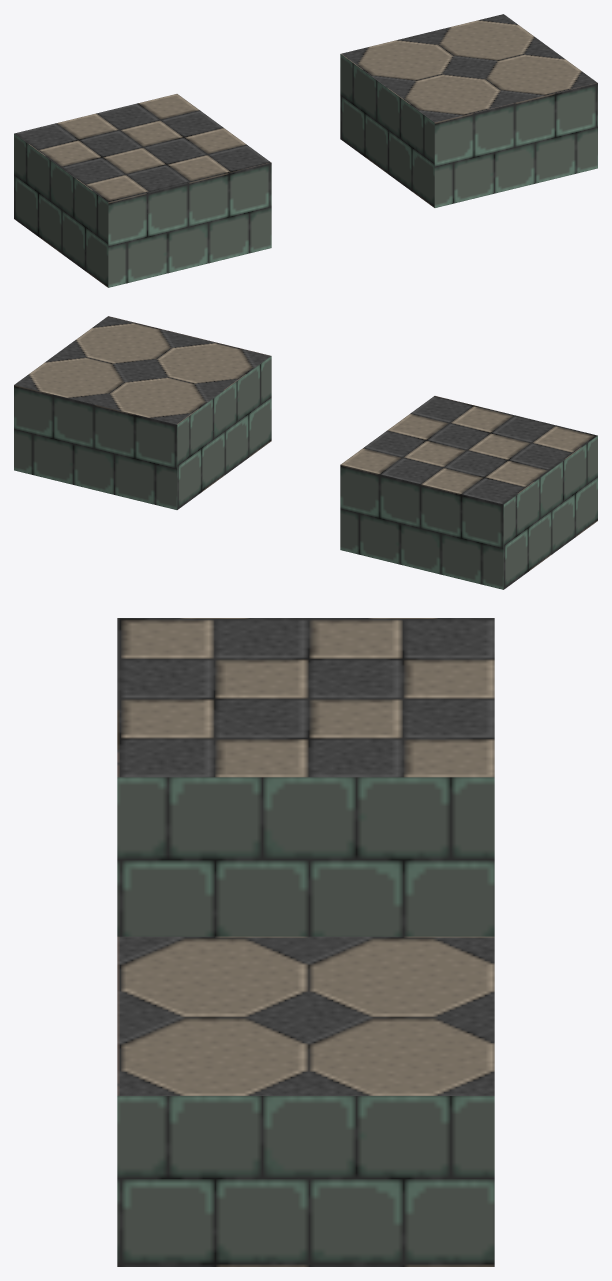
The model's file is obj_floorTile_1m_v2.fbx.
3 views of the same model, one above another, from view 1: azimuth 30°, elevation 25°; view 2: azimuth 150°, elevation 25°; view 3: azimuth 270°, elevation 25° (orthographic). The views are drawn at different scales.
Parts seen in each view (by area): view 1: obj_floorTile_1m_v1, obj_floorTile_1m_v2; view 2: obj_floorTile_1m_v1, obj_floorTile_1m_v2; view 3: obj_floorTile_1m_v1, obj_floorTile_1m_v2.
Part boxes in pixels (x1=…): obj_floorTile_1m_v1: x1=340, y1=14, x2=597, y2=207; obj_floorTile_1m_v2: x1=14, y1=94, x2=271, y2=287; obj_floorTile_1m_v1: x1=14, y1=316, x2=271, y2=509; obj_floorTile_1m_v2: x1=340, y1=396, x2=597, y2=589; obj_floorTile_1m_v1: x1=117, y1=936, x2=494, y2=1266; obj_floorTile_1m_v2: x1=117, y1=618, x2=494, y2=936.
Size of the model in its own units: 300 by 50 by 100.
